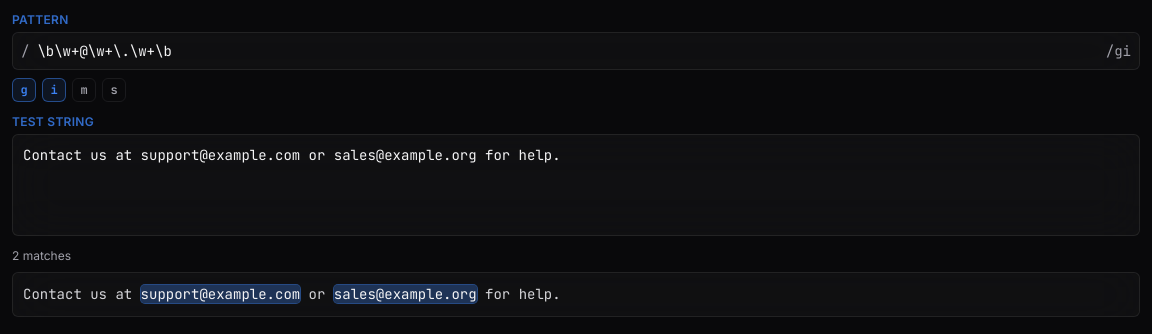
Test: RegexPlayground › updates matches live as the pattern changes
Replace the text in the field named "Regular expression pattern" with "example\\.com" at x=568, y=51, box [37,41,1098,61]
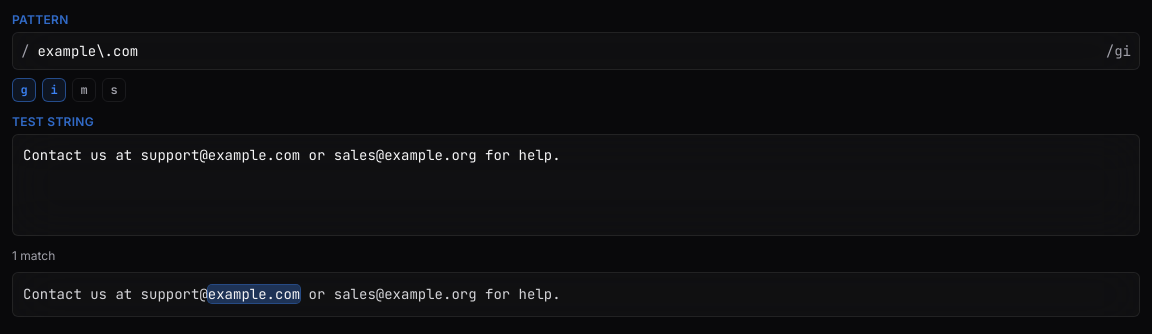
Check: the text "1 match" is shown, box [12,248,55,263]
